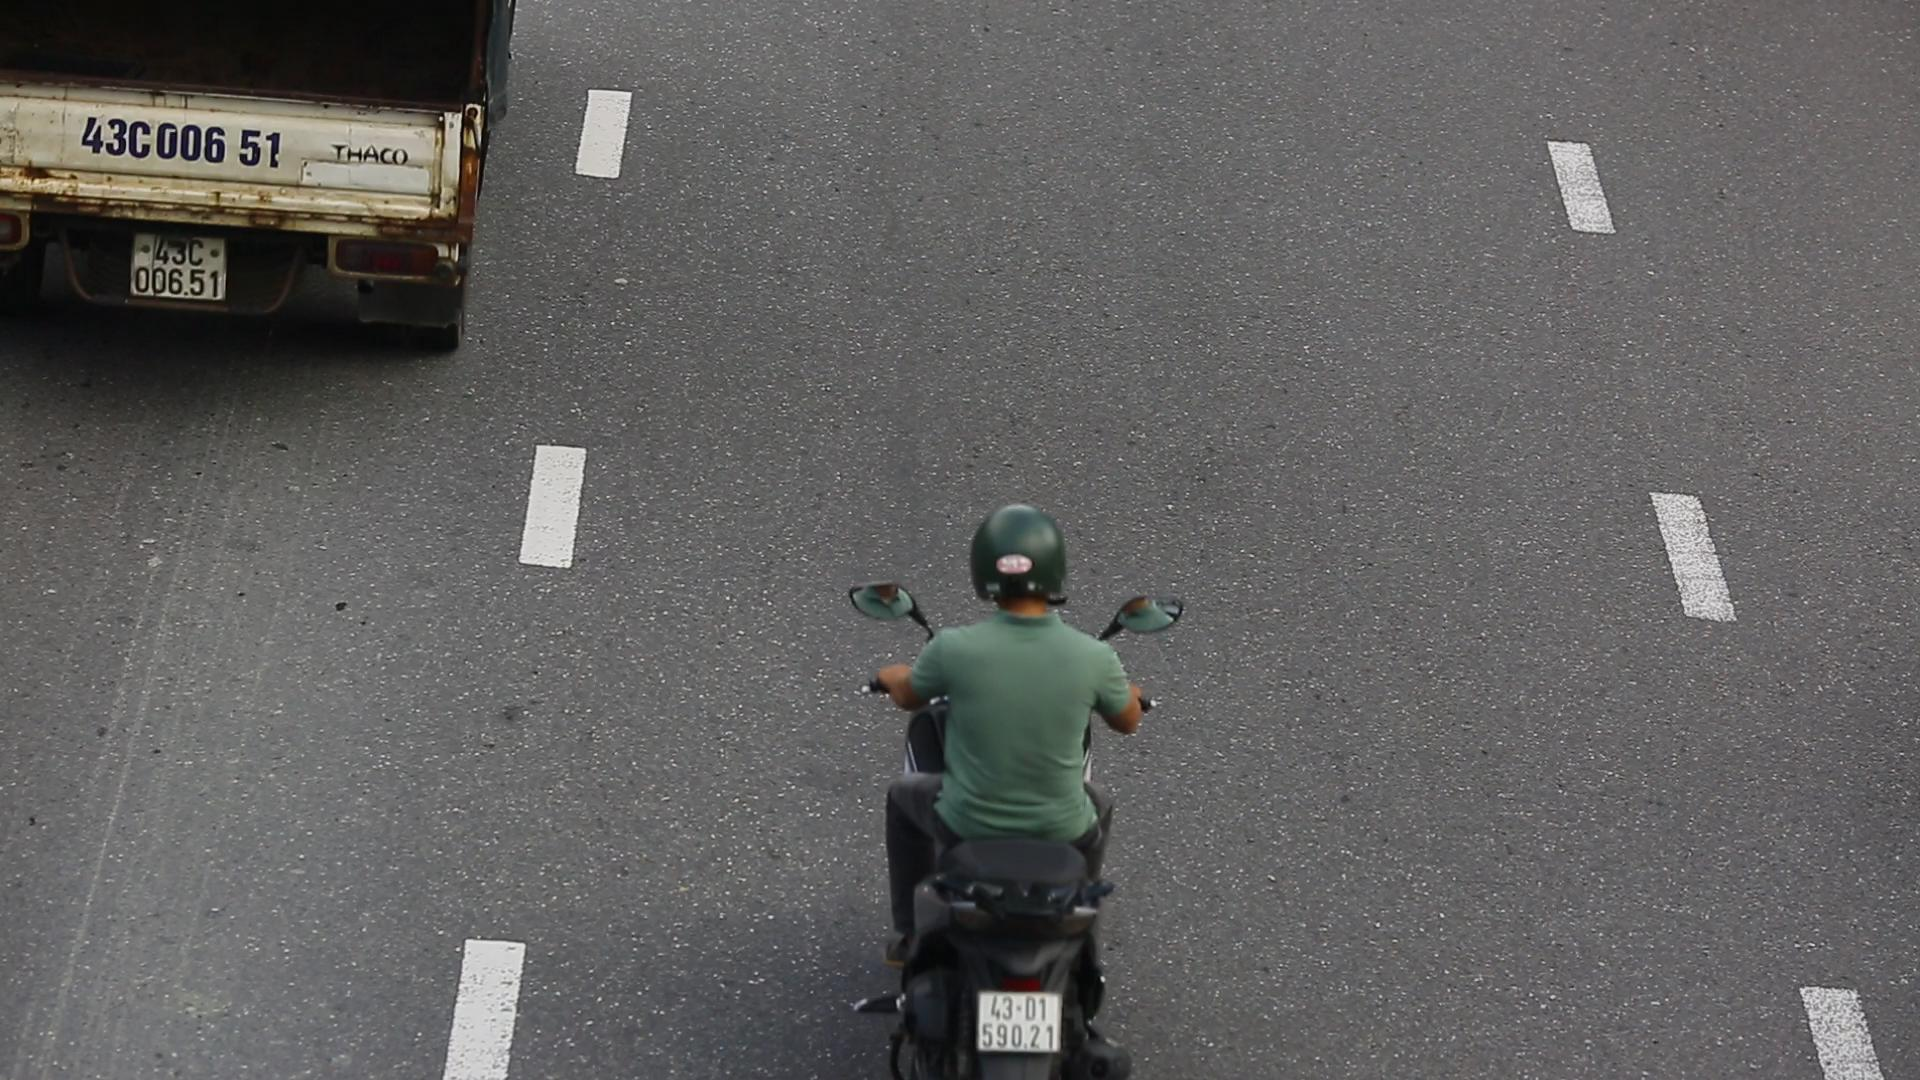motobike: (845, 491, 1185, 1080)
